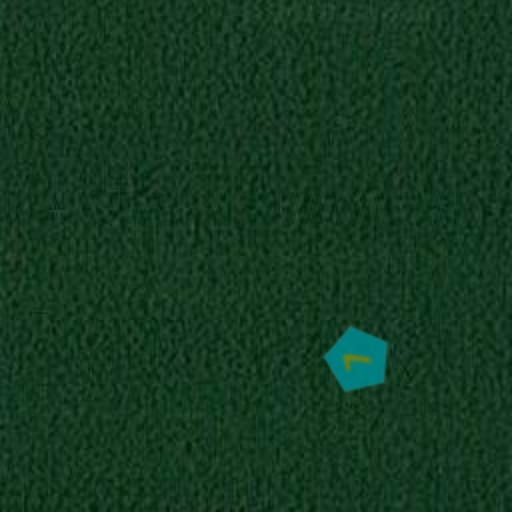pentagon: (316, 318, 400, 402)
